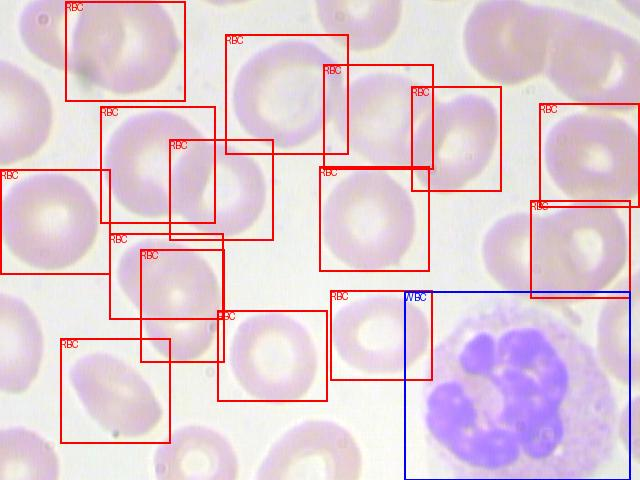RBC: (225, 34, 348, 154), (100, 106, 215, 223), (65, 1, 185, 101), (60, 338, 170, 443), (0, 169, 110, 274), (319, 166, 429, 271), (323, 64, 433, 169), (169, 139, 273, 240), (539, 103, 639, 207), (217, 310, 327, 401), (109, 233, 223, 319), (530, 200, 630, 298), (140, 249, 224, 362), (411, 86, 501, 191), (330, 290, 432, 380)
WBC: (404, 291, 630, 480)
